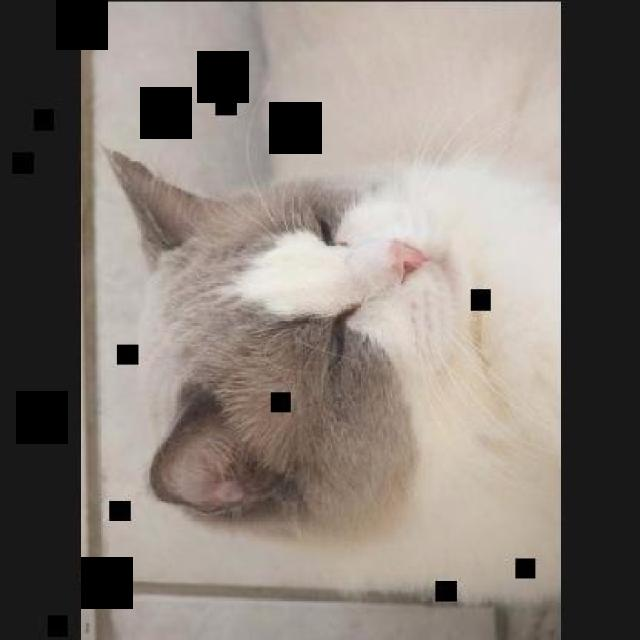unauthorized: (98, 115, 557, 531)
